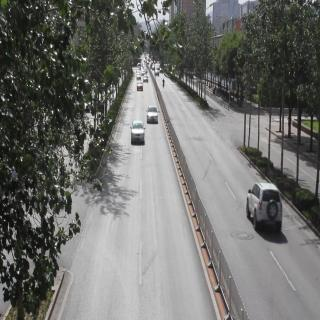Car: (242, 172, 282, 234), (129, 117, 153, 149), (143, 102, 161, 138), (136, 76, 144, 95), (142, 70, 151, 84)
